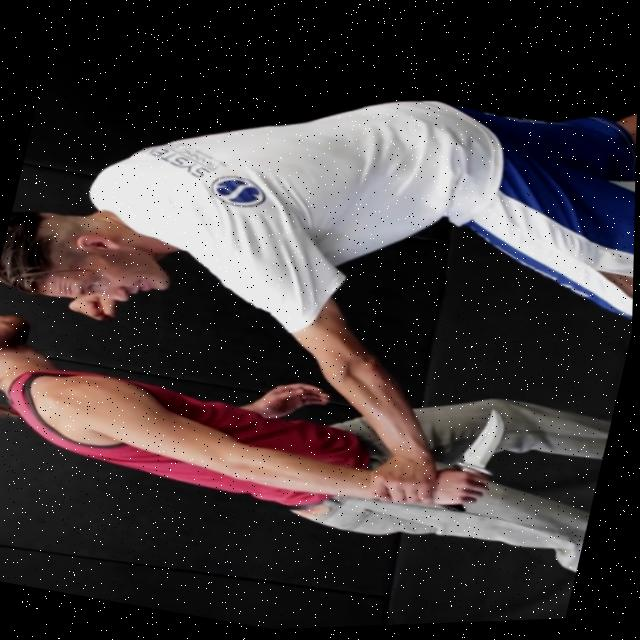knife: (455, 406, 510, 481)
